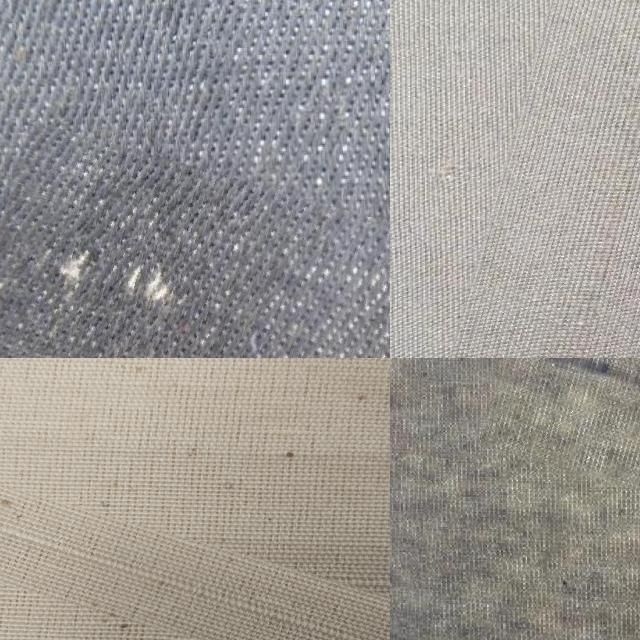stains: (0, 151, 390, 358), (446, 0, 640, 358), (0, 489, 390, 640), (485, 358, 640, 500)
